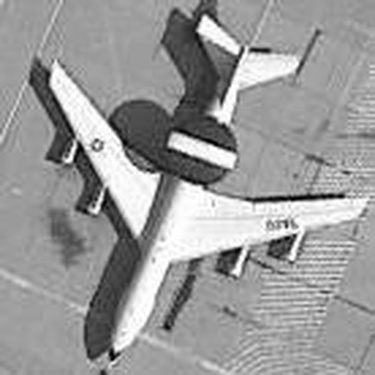airplane: (9, 10, 368, 370)
